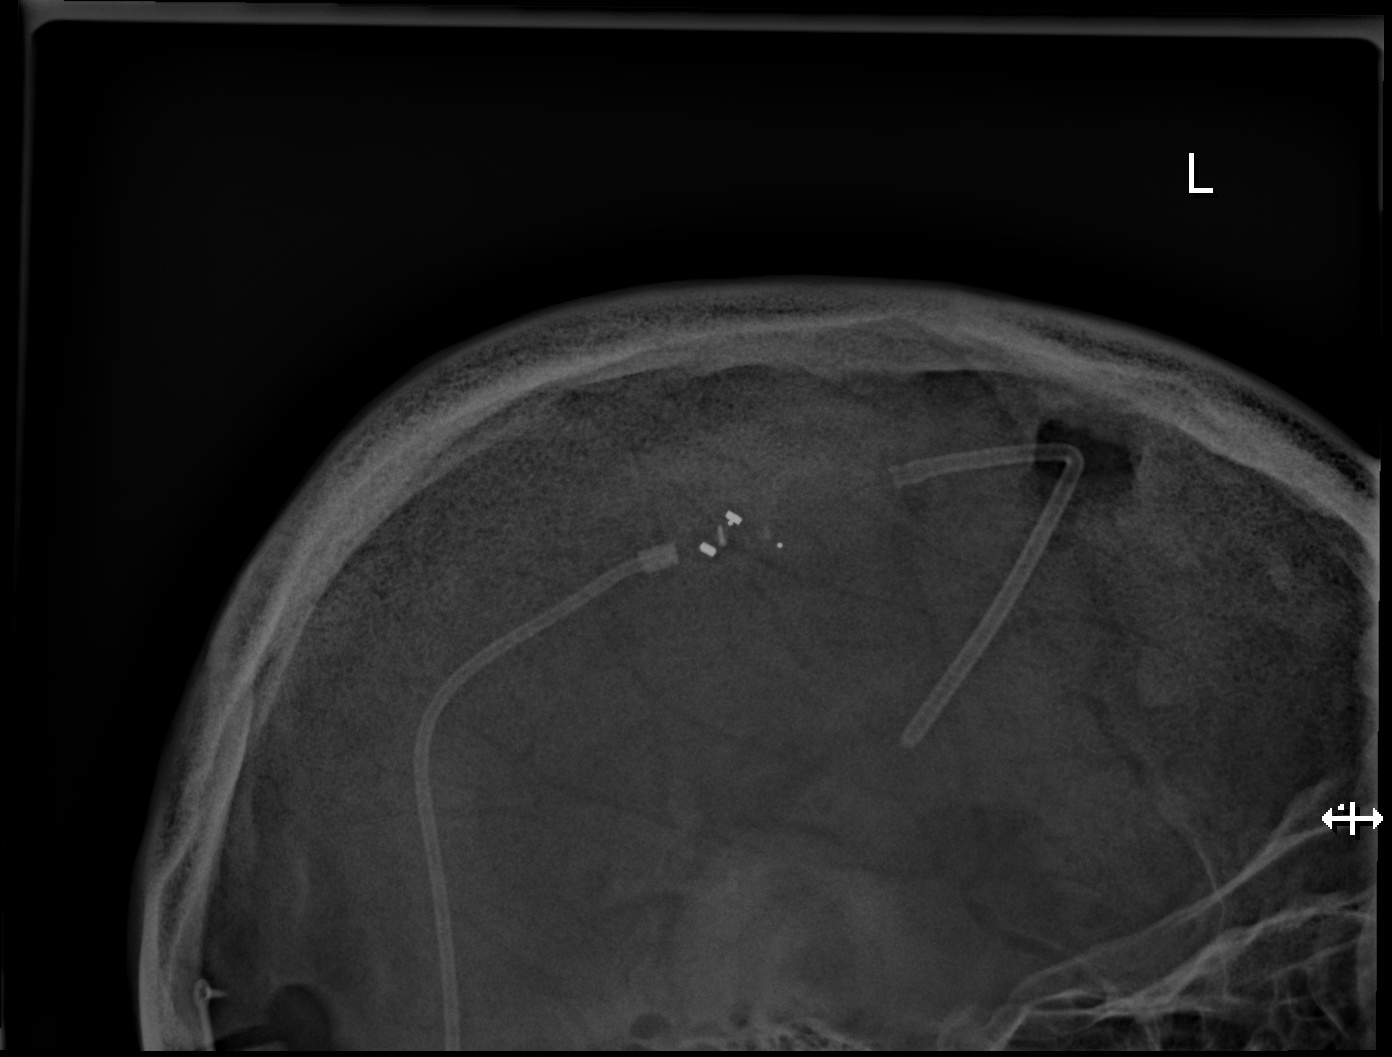Codman Certas: (678, 496, 793, 578)
